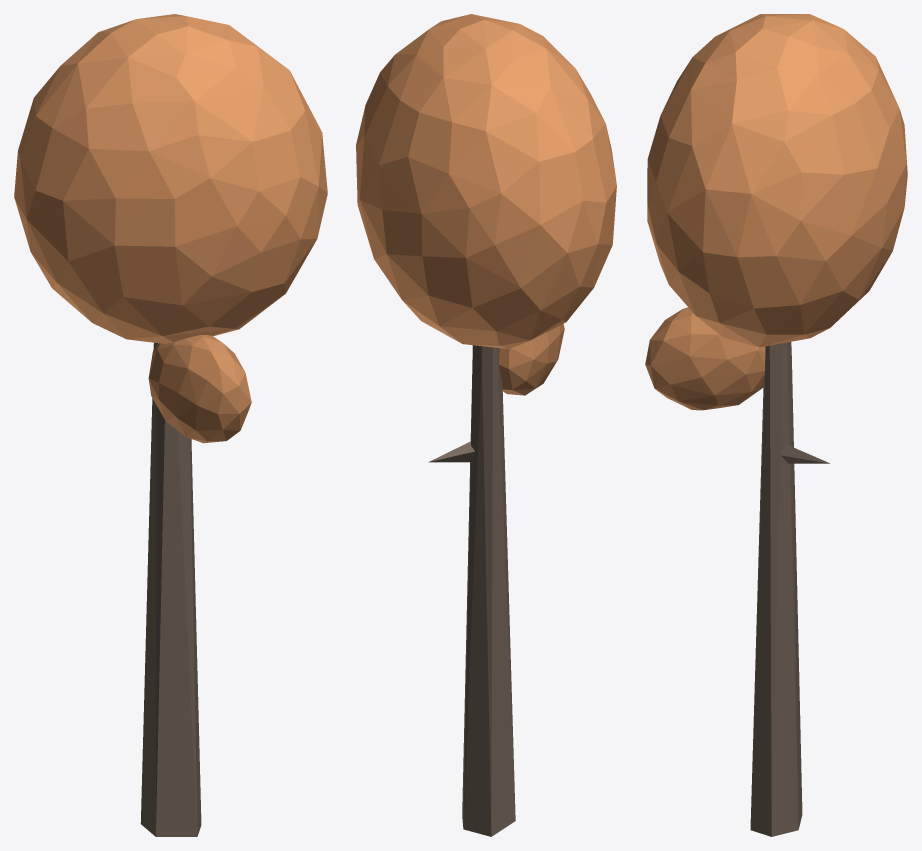
File: jungle tree placeholder.fbx
3 renders of one model, left to right at view 1: azimuth 30°, elevation 25°; view 2: azimuth 150°, elevation 25°; view 3: azimuth 270°, elevation 25°, orthographic.
Parts seen in each view (by area): view 1: tree; view 2: tree; view 3: tree.
Part boxes in pixels (x1=…): tree: x1=14, y1=14, x2=327, y2=836; tree: x1=356, y1=14, x2=616, y2=836; tree: x1=645, y1=14, x2=907, y2=836.
Bounding box in the file's own units: 573 × 1711 × 509.
